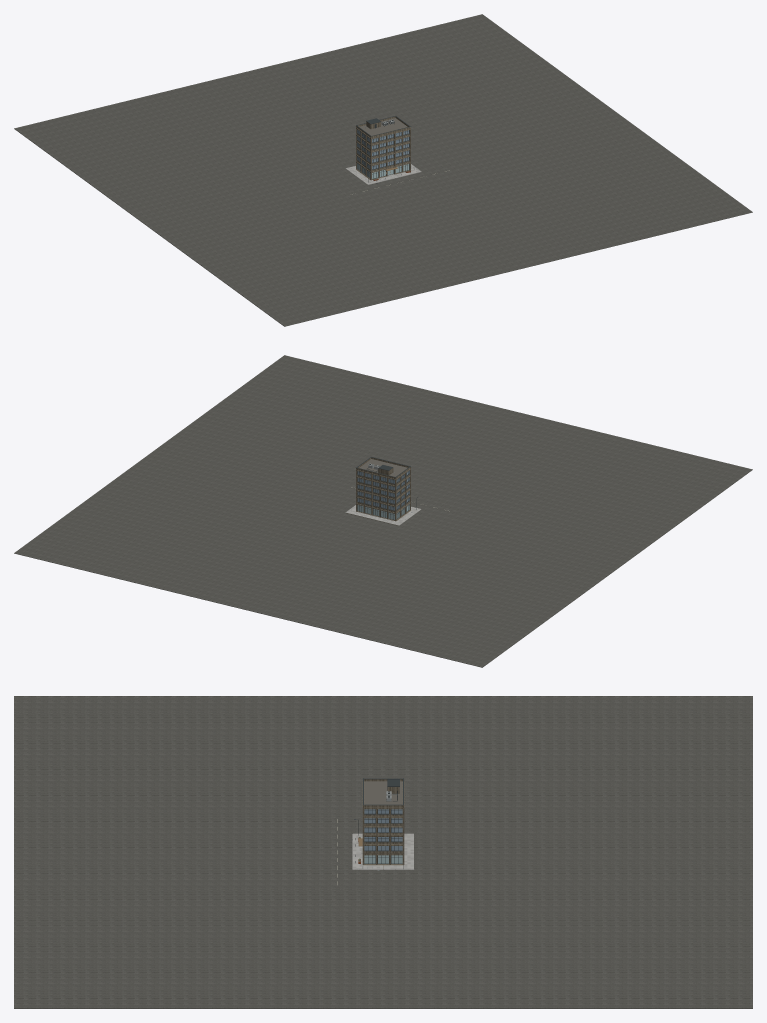
Rendered from building_v4_pc.fbx.
3 renders of one model, top to bottom at view 1: azimuth 30°, elevation 25°; view 2: azimuth 150°, elevation 25°; view 3: azimuth 270°, elevation 25°, orthographic. The views are drawn at different scales.
Visible parts, largest first — view 1: static_environment; view 2: static_environment; view 3: static_environment.
Part boxes in pixels (left/top/right/bottom): static_environment: left=14, top=14, right=752, bottom=326; static_environment: left=14, top=355, right=752, bottom=667; static_environment: left=14, top=696, right=752, bottom=1008.
Size of what is drawn, in the model's own units: 240 by 240 by 23.6.
26 materials, 2 textured.
